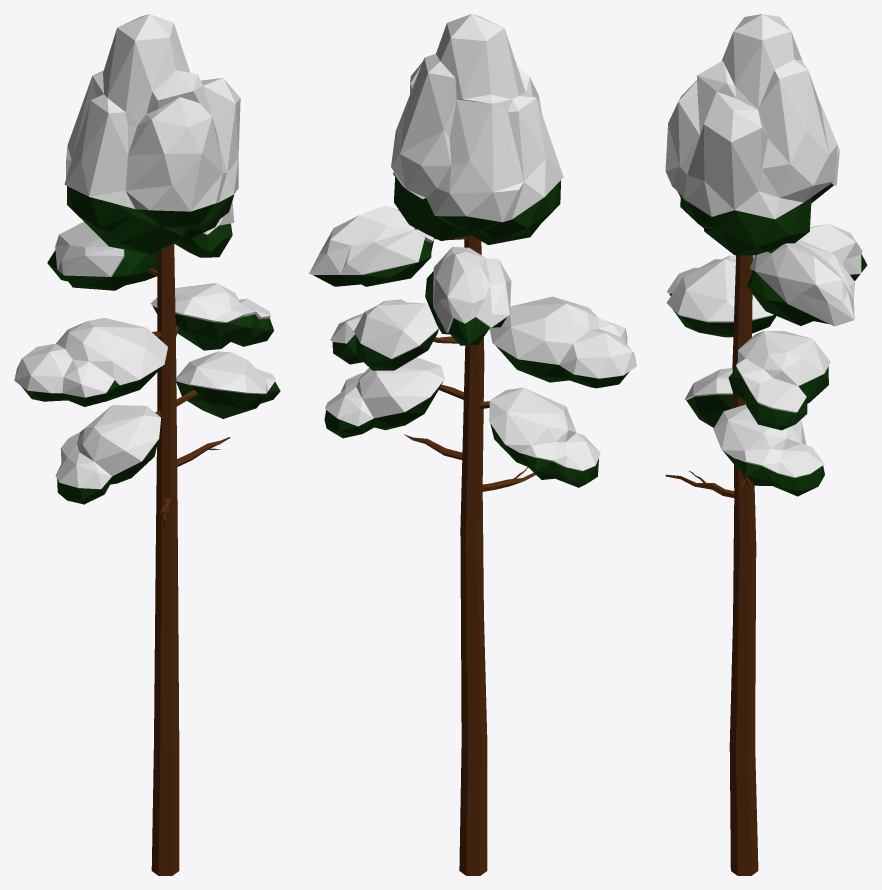
File: tree_big.fbx
3 views of the same model, side by side, from view 1: azimuth 30°, elevation 25°; view 2: azimuth 150°, elevation 25°; view 3: azimuth 270°, elevation 25° (orthographic).
Visible parts, largest first — view 1: puu_latvat_LOD0, puu_runko_LOD0; view 2: puu_latvat_LOD0, puu_runko_LOD0; view 3: puu_latvat_LOD0, puu_runko_LOD0.
Part boxes in pixels (box(x1,y1,x2,y2)): puu_latvat_LOD0: box(14, 14, 280, 504); puu_runko_LOD0: box(148, 243, 230, 875); puu_latvat_LOD0: box(309, 14, 636, 487); puu_runko_LOD0: box(404, 235, 535, 875); puu_latvat_LOD0: box(665, 14, 867, 496); puu_runko_LOD0: box(665, 255, 758, 875).
Size of what is drawn, in the model's own units: 962 by 2916 by 625.
